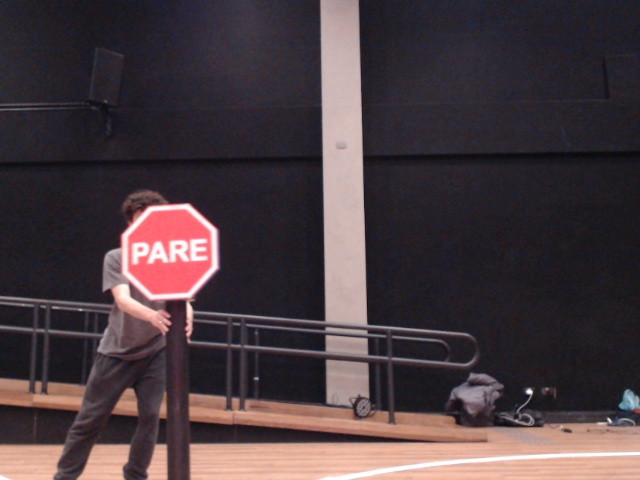SEMAFORO: (104, 190, 248, 322)
